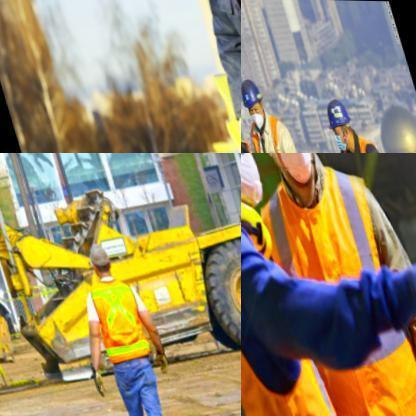vest: (250, 154, 415, 415), (241, 194, 346, 415), (83, 273, 150, 363), (184, 0, 240, 103), (241, 111, 310, 152)
